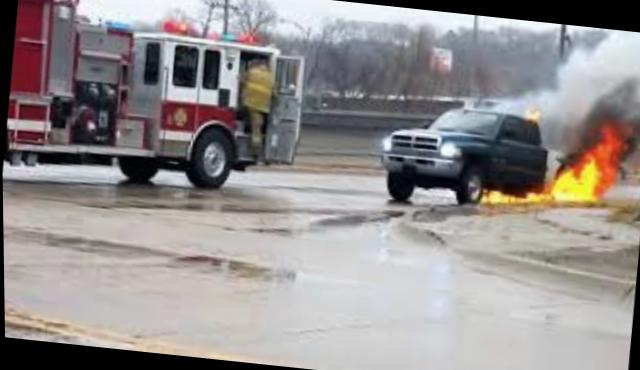fire: (470, 101, 639, 233)
